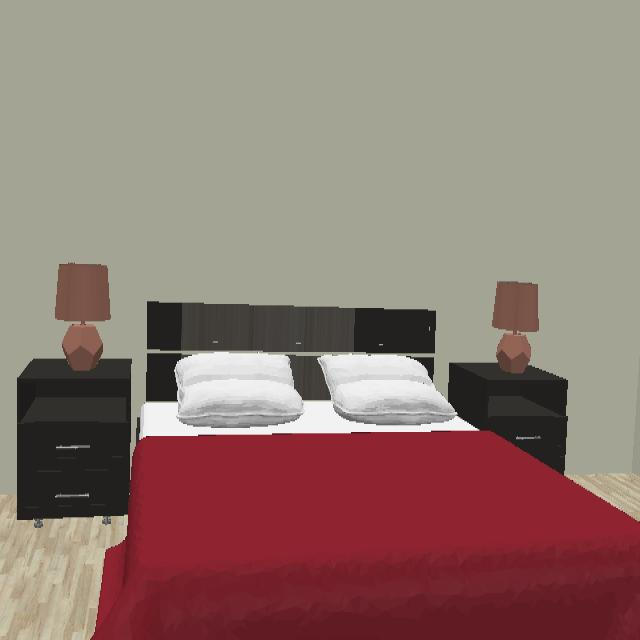bed: (89, 301, 640, 640)
cabinet: (17, 359, 133, 520), (446, 363, 568, 472)
lamp: (55, 263, 113, 372), (491, 281, 540, 373)
pillow: (174, 352, 306, 435), (317, 353, 422, 427)
